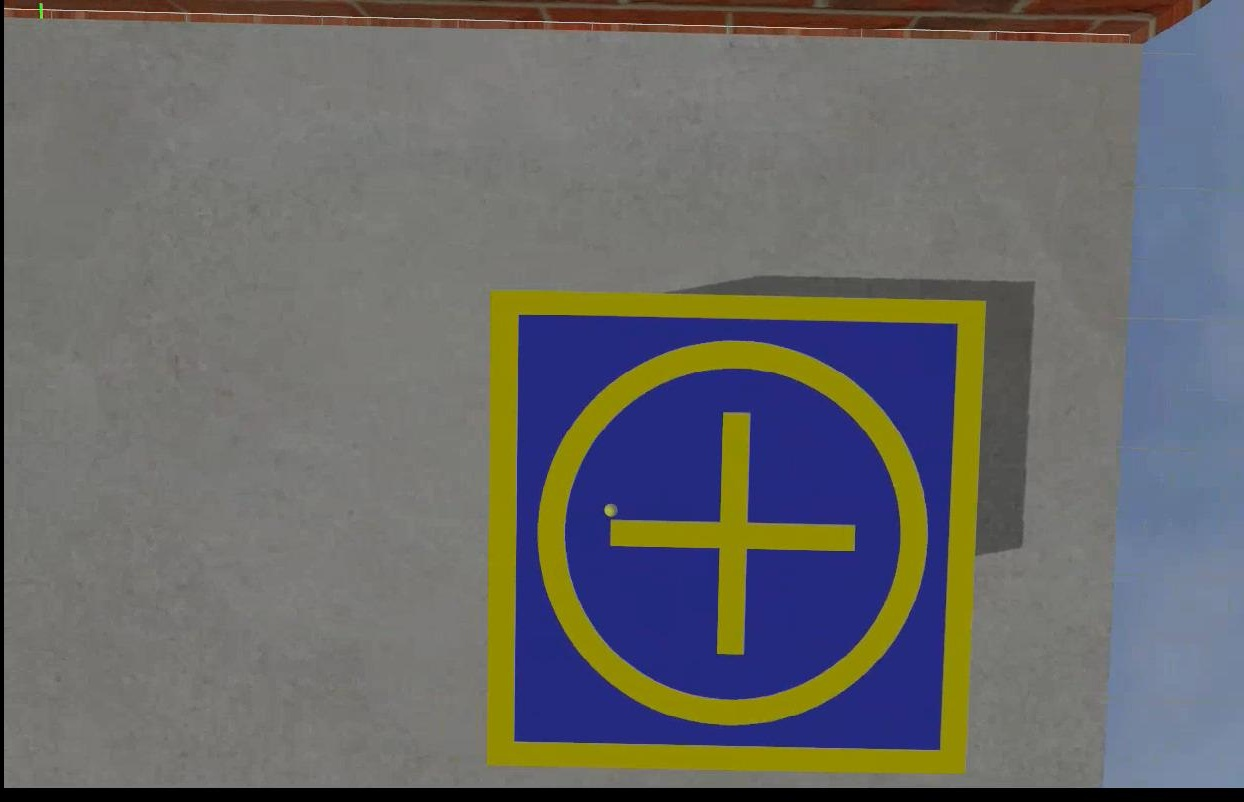small_base: (488, 288, 982, 775)
